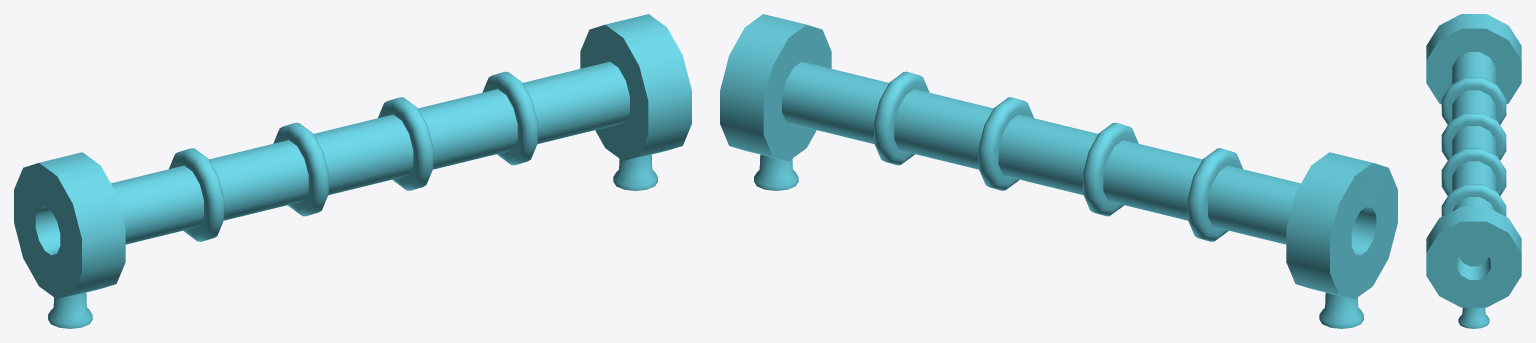
The model's file is coil_long.fbx.
The picture shows the model from 3 angles, left to right: view 1: azimuth 30°, elevation 25°; view 2: azimuth 150°, elevation 25°; view 3: azimuth 270°, elevation 25°; orthographic projection. The views are drawn at different scales.
Visible parts, largest first — view 1: coil_long; view 2: coil_long; view 3: coil_long.
Boxes of the visible parts, x1=… form: coil_long: x1=14, y1=14, x2=691, y2=328; coil_long: x1=720, y1=14, x2=1397, y2=328; coil_long: x1=1426, y1=14, x2=1521, y2=328.
Size of the model in its own units: 2 by 0.4873 by 0.3871.
